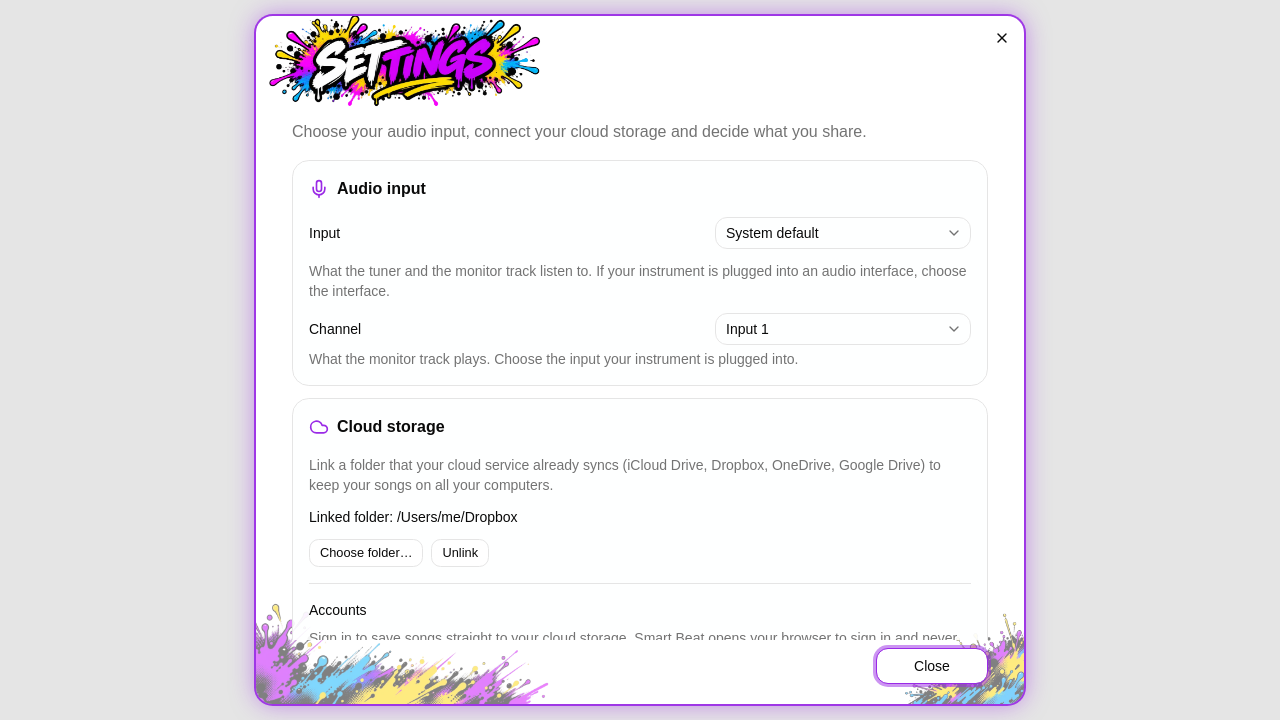
Test: SettingsDialog: cloud folder › keeps the folder and says so when linking fails, and sends no path to usage stats
This screenshot has width=1280, height=720.
Click the button "Unlink".
click(460, 553)  # box [432, 539, 489, 567]
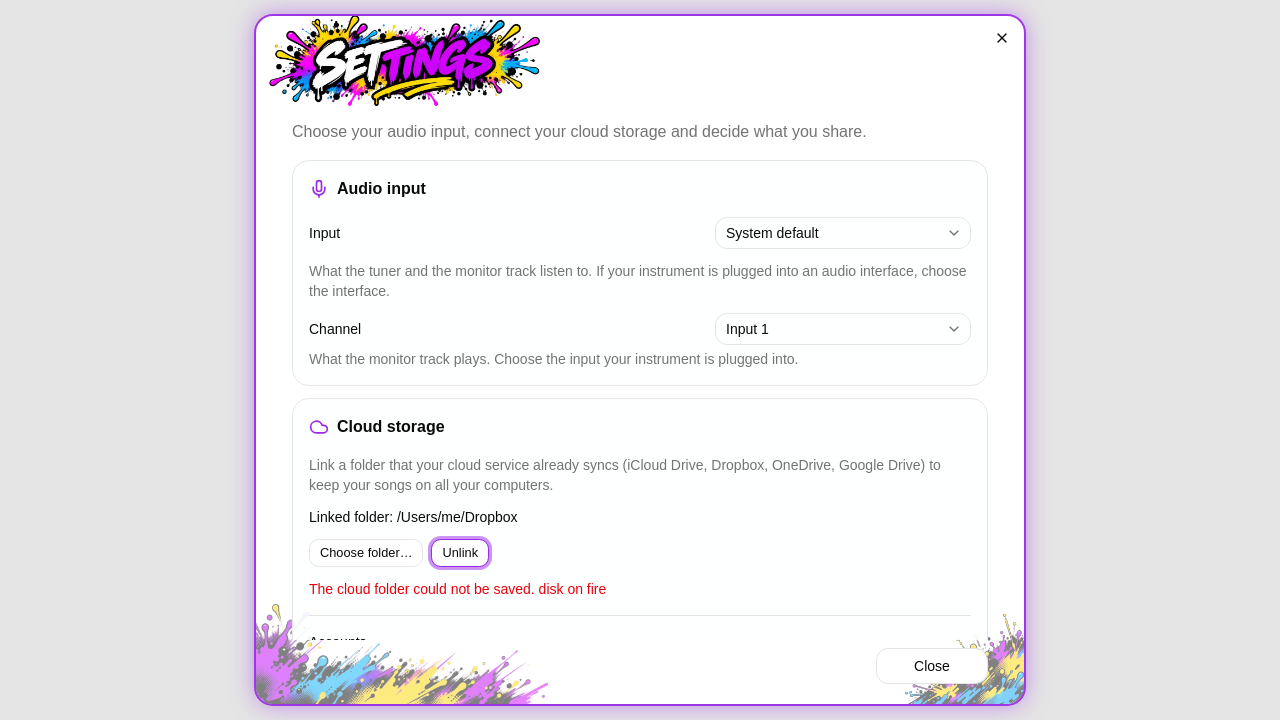
Expected: the text "/Users/me/Dropbox" is shown, [397, 509, 518, 525]
Result: the message shows "could not be saved" at [309, 581, 606, 597]
